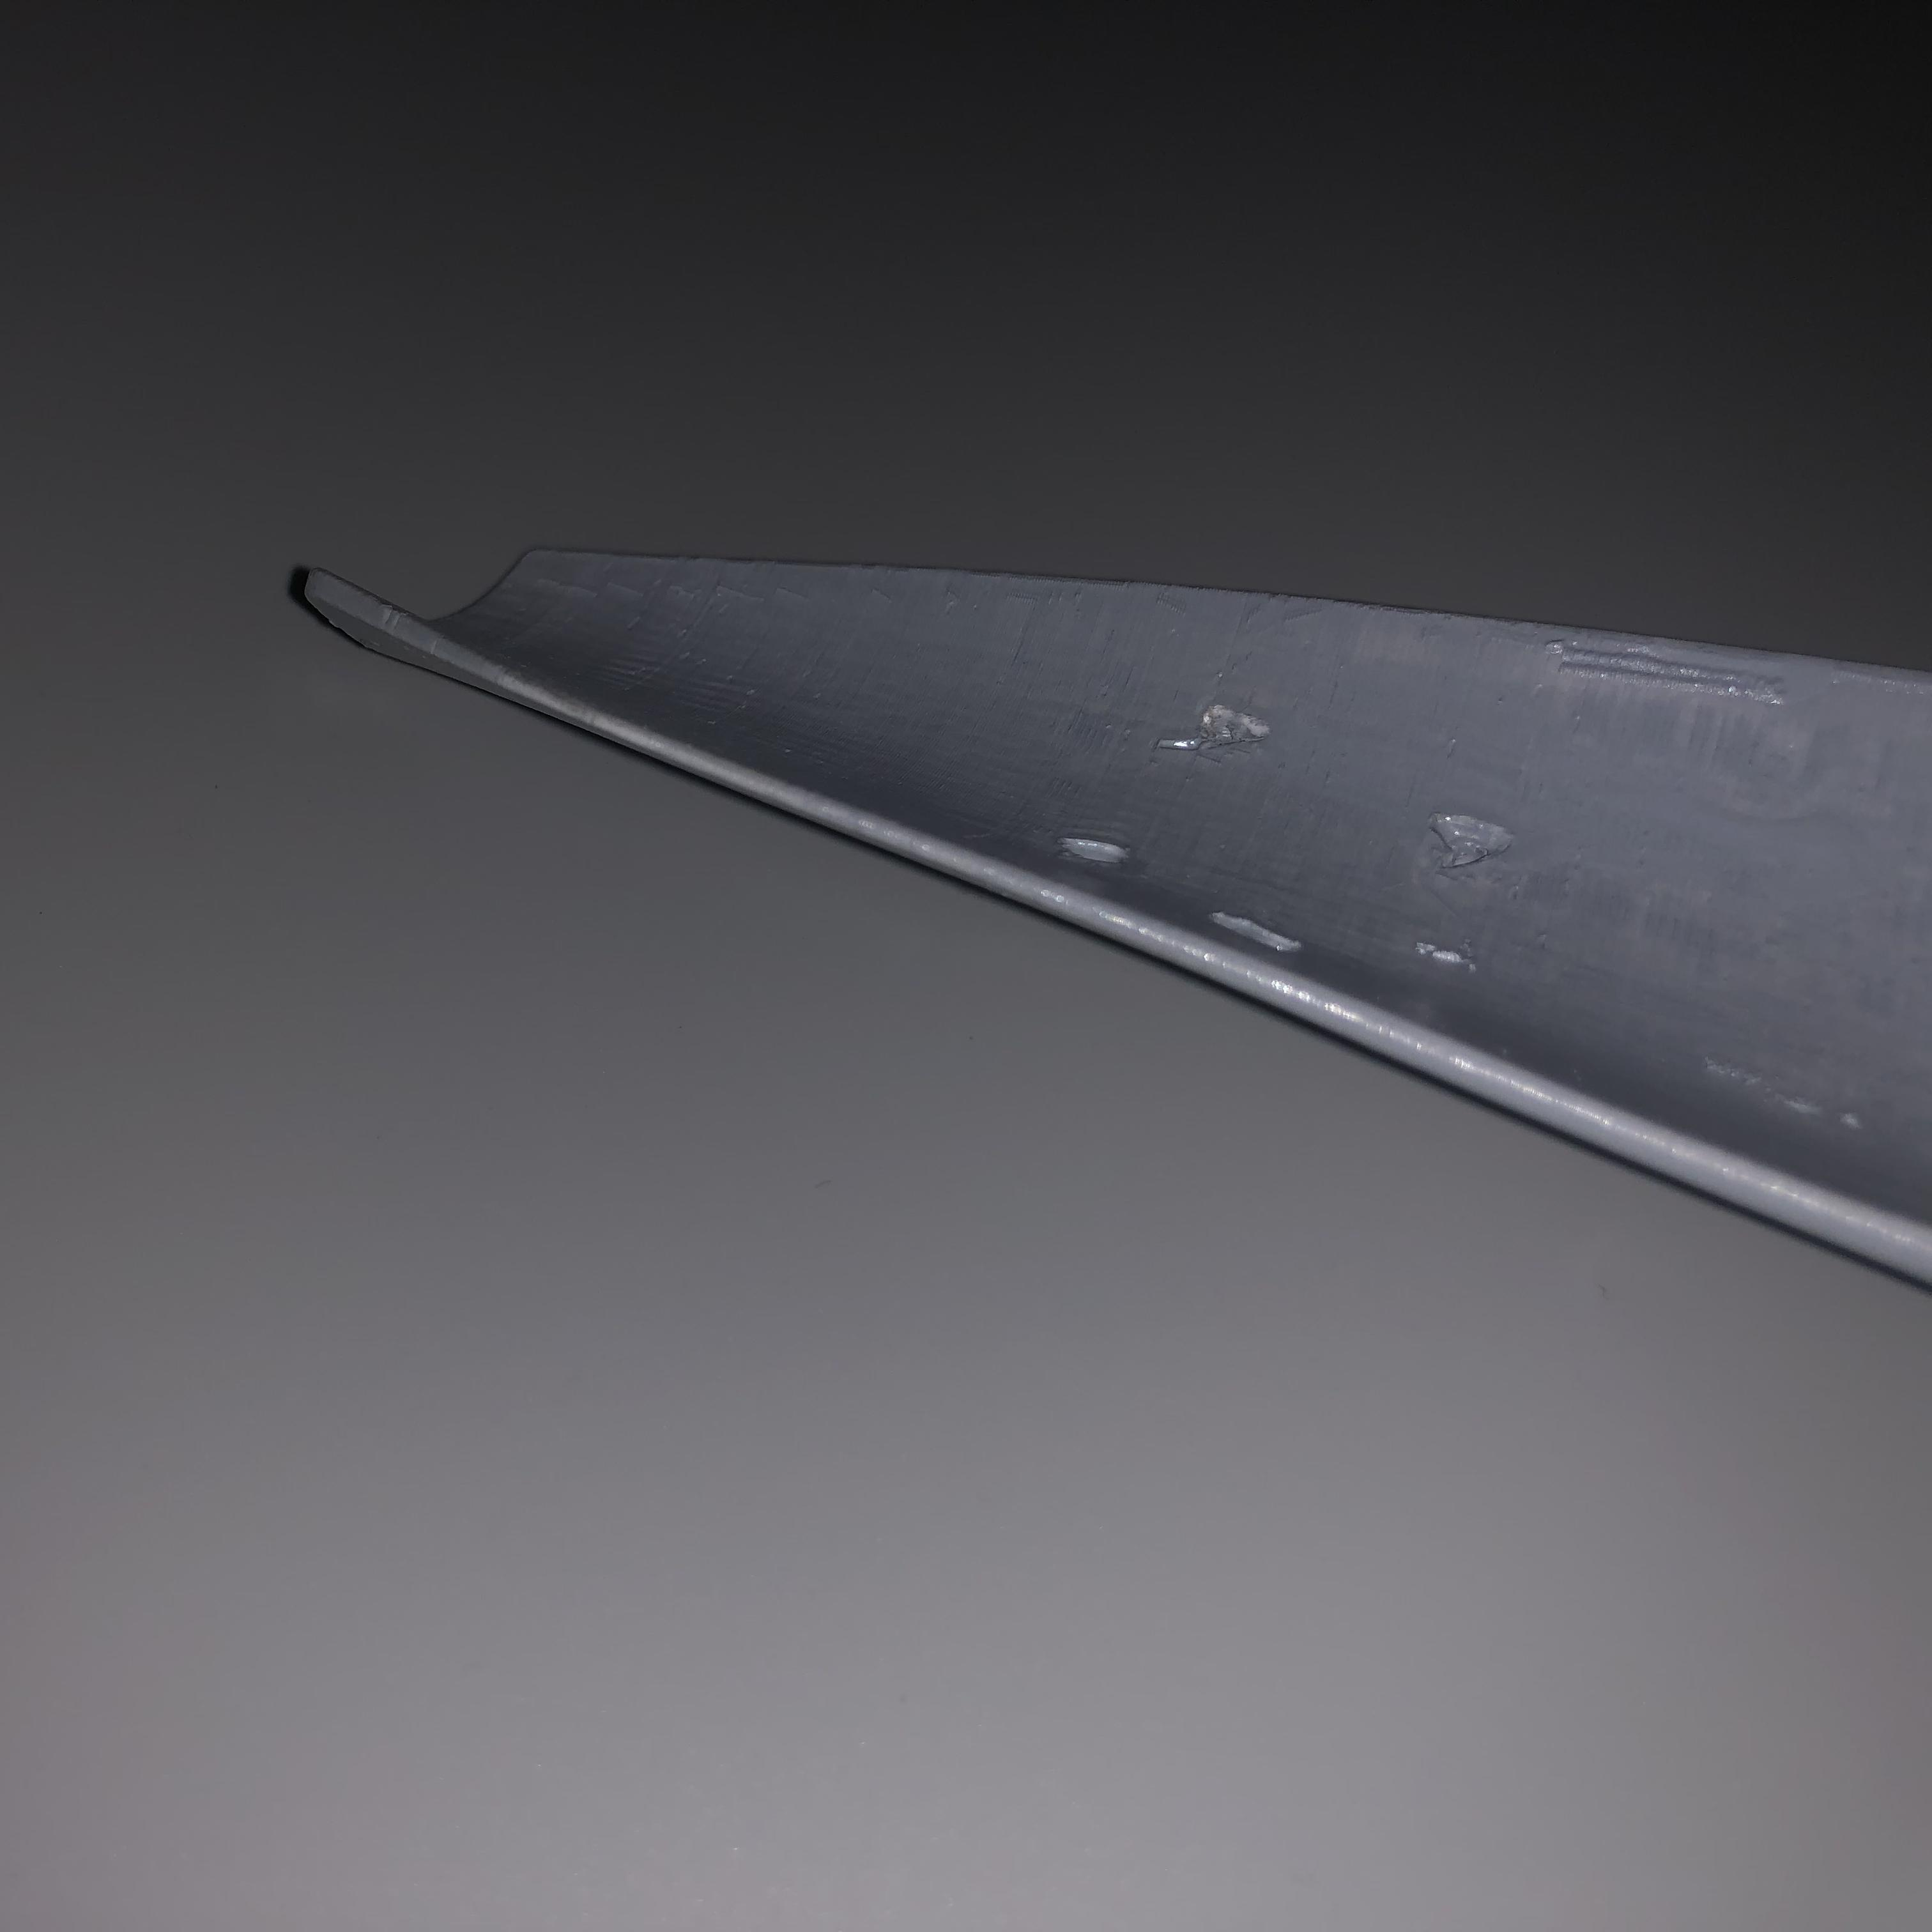breakdown: (1051, 830, 1315, 977), (1428, 812, 1527, 886), (1177, 702, 1283, 763)
